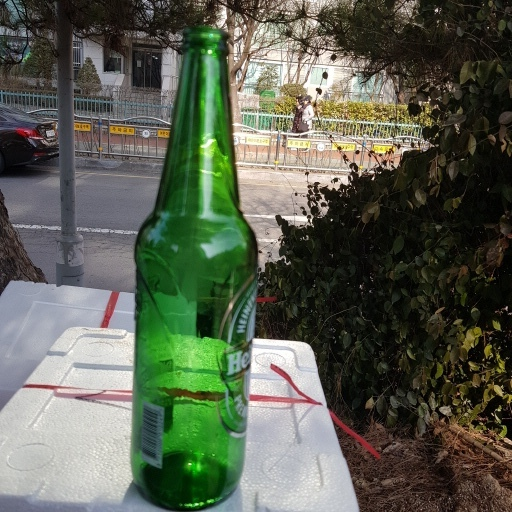Glass_1: (127, 25, 263, 511)
